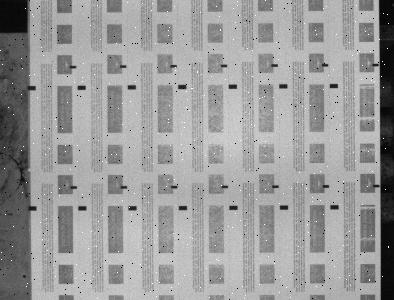backgroundclutter: (23, 274, 26, 278)
qblock: (178, 84, 187, 89), (179, 205, 188, 210), (78, 85, 86, 90), (229, 84, 237, 89), (230, 205, 238, 210), (28, 206, 37, 210), (330, 84, 339, 88), (78, 206, 87, 210), (128, 206, 137, 210), (280, 205, 289, 209), (28, 86, 36, 90), (128, 85, 136, 89), (280, 84, 288, 88), (331, 205, 339, 209)
smallqblock: (171, 185, 178, 189), (323, 184, 330, 188), (70, 65, 76, 69), (171, 64, 177, 68), (120, 65, 127, 68), (322, 64, 329, 67), (221, 64, 228, 67), (70, 186, 77, 189), (373, 63, 380, 66), (272, 185, 279, 188), (222, 185, 229, 188), (272, 64, 278, 67), (121, 186, 127, 189), (374, 184, 380, 187)
